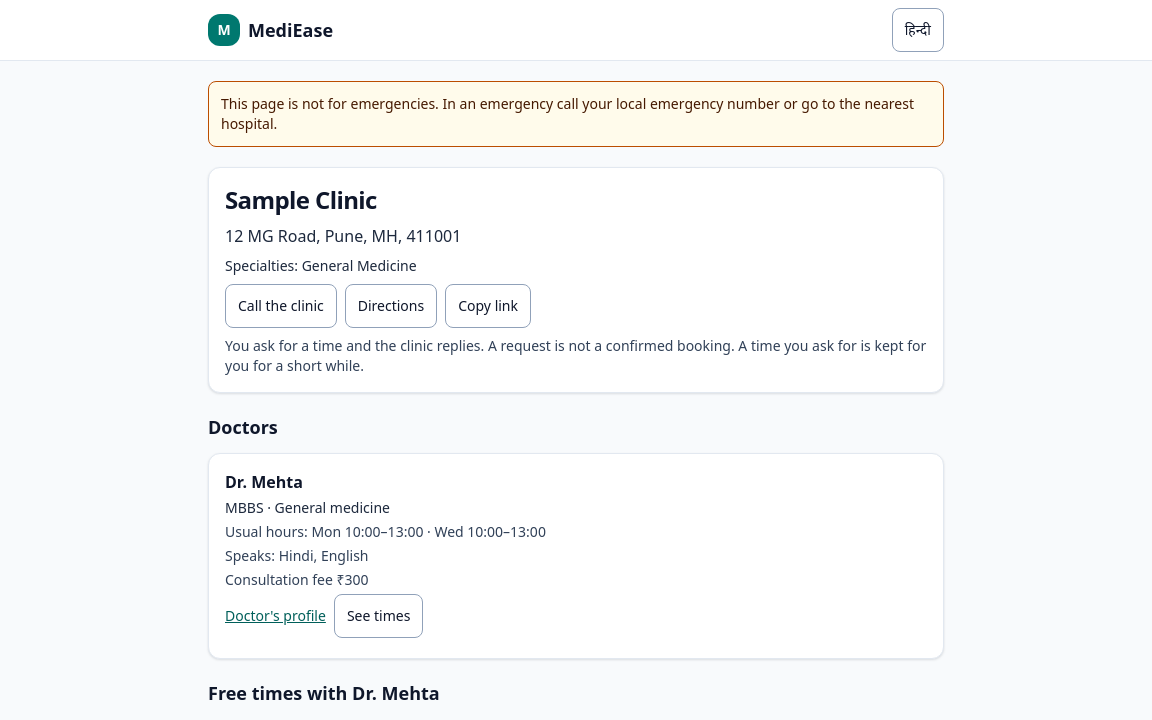
the public clinic page (M6b-P4, FR-PUB-01, 04) › a token session shows the places left and one link
The image size is (1152, 720).
Click the button "See times" at coordinates (379, 616), box [334,594,423,638]
(page scrolled)
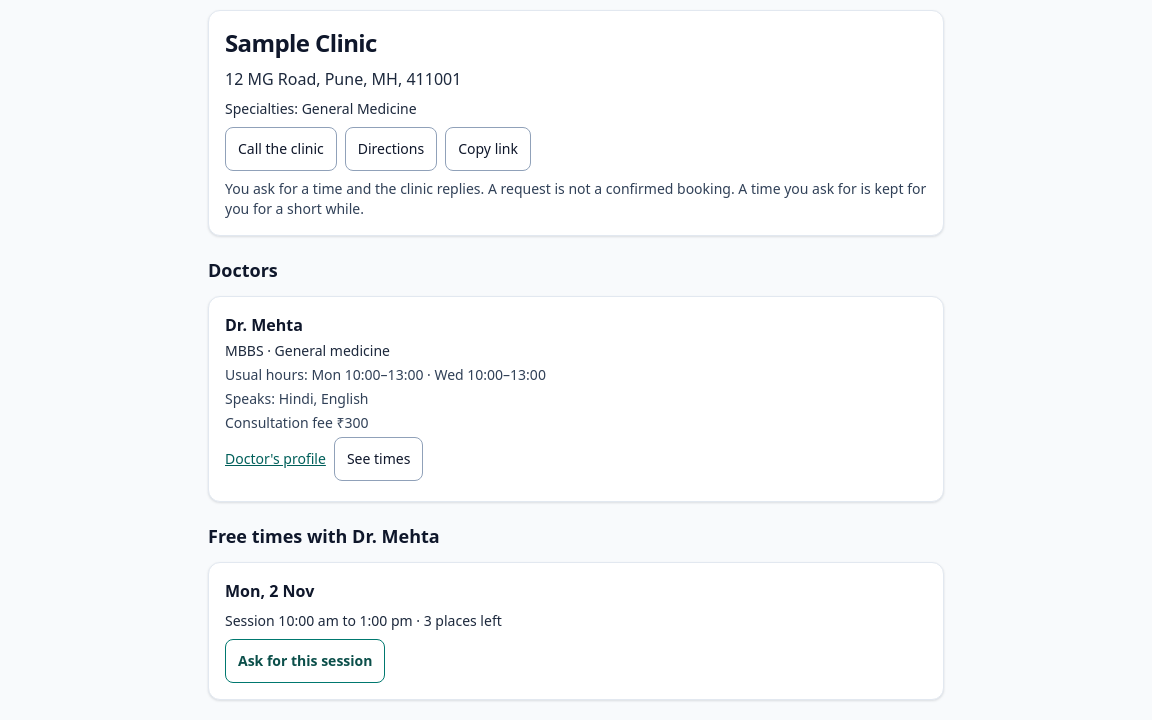
Expected: the text "Session 10:00 am to 1:00 pm · 3 places left" is shown, [225,611,502,630]
